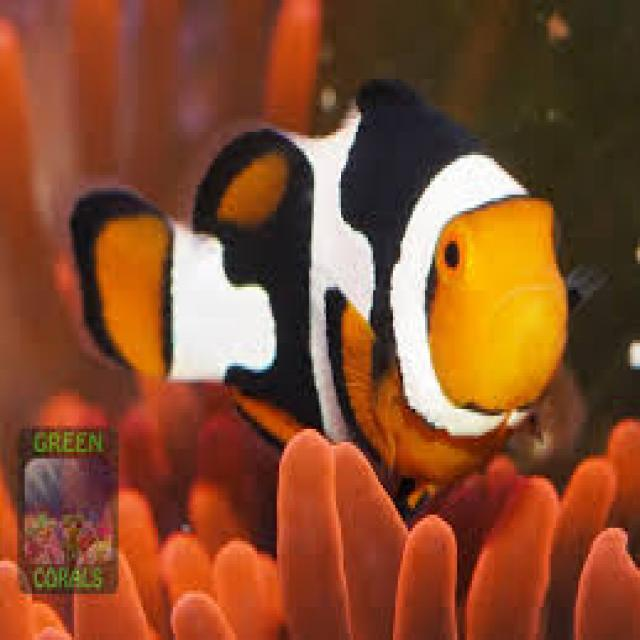ClownFish: (46, 64, 584, 497)
